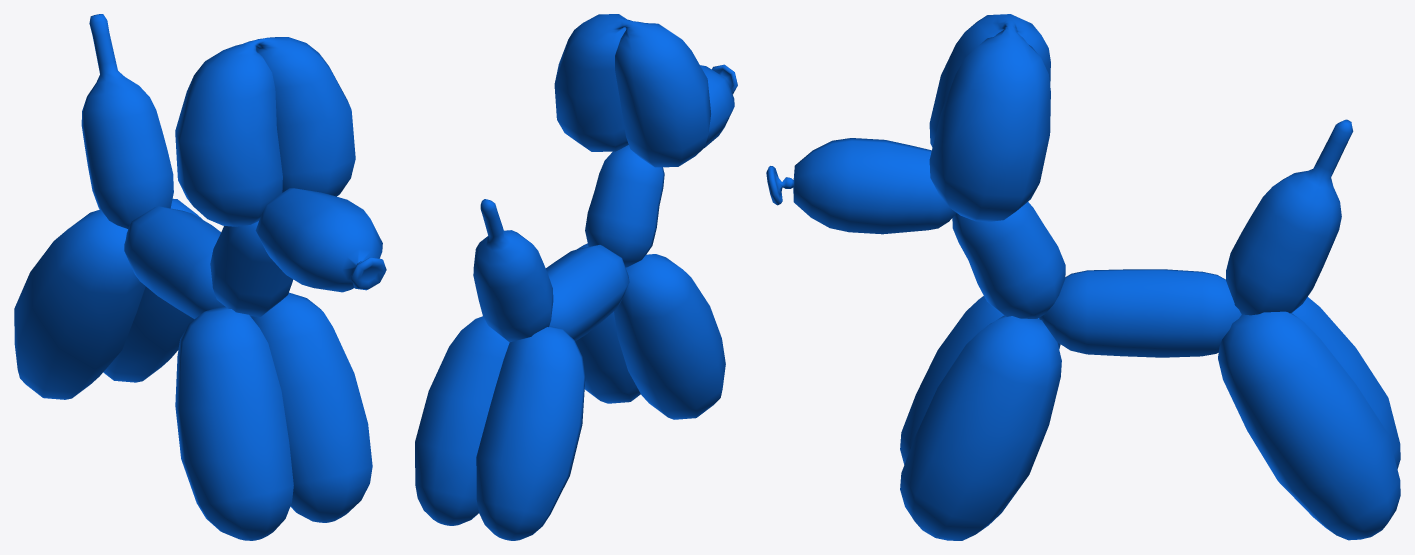
File: blue.glb
The picture shows the model from 3 angles, left to right: view 1: azimuth 30°, elevation 25°; view 2: azimuth 150°, elevation 25°; view 3: azimuth 270°, elevation 25°; orthographic projection. The views are drawn at different scales.
Visible parts, largest first — view 1: Sphere.004; view 2: Sphere.004; view 3: Sphere.004.
Part boxes in pixels (x1,y1,x2,y2): Sphere.004: (14,14,386,540); Sphere.004: (415,14,737,540); Sphere.004: (766,14,1400,540).
Bounding box in the file's own units: 1.24 × 3.12 × 3.63.
